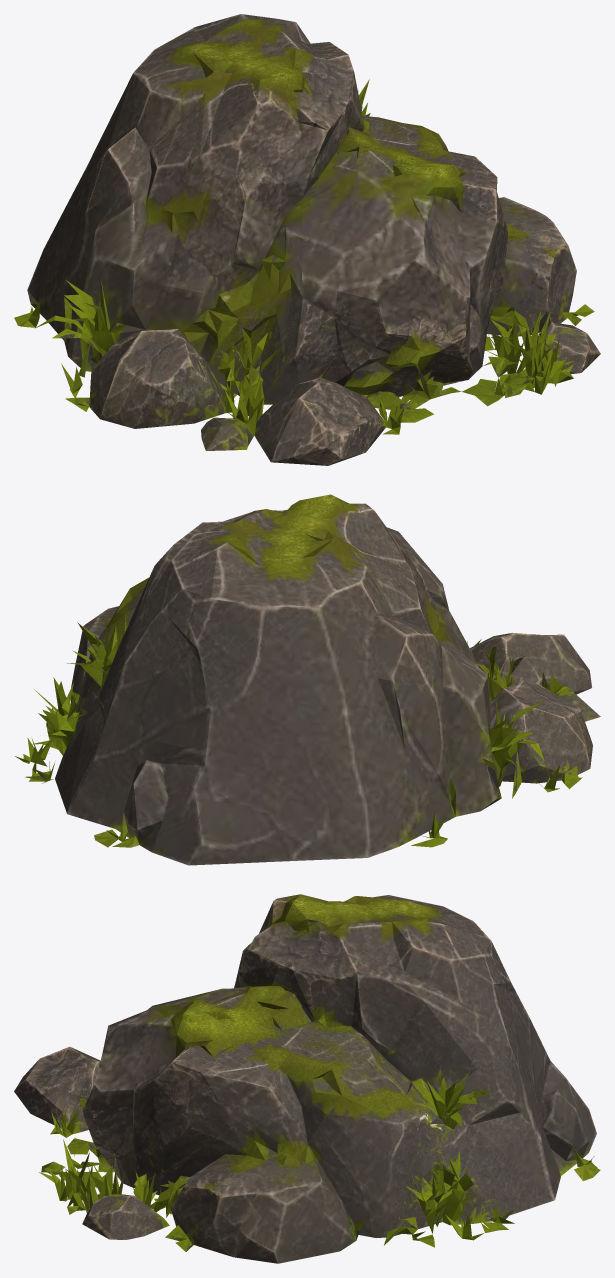
The model's file is rock_b4.glb.
3 views of the same model, one above another, from view 1: azimuth 30°, elevation 25°; view 2: azimuth 150°, elevation 25°; view 3: azimuth 270°, elevation 25° (orthographic). The views are drawn at different scales.
Parts seen in each view (by area): view 1: output_unwrapped; view 2: output_unwrapped; view 3: output_unwrapped.
Boxes of the visible parts, left/top/right/bottom form: output_unwrapped: left=14, top=14, right=600, bottom=465; output_unwrapped: left=15, top=494, right=600, bottom=865; output_unwrapped: left=14, top=894, right=600, bottom=1263.
Size of the model in its own units: 1.74 by 0.852 by 1.88.
Materials: 1 (1 with a texture image).
